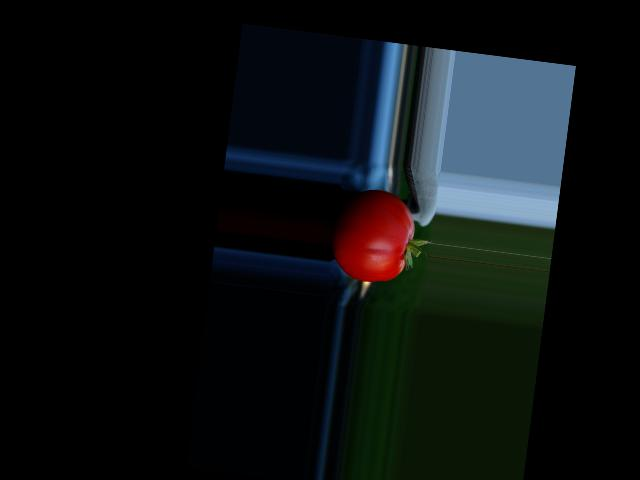tomato: (327, 185, 418, 287)
